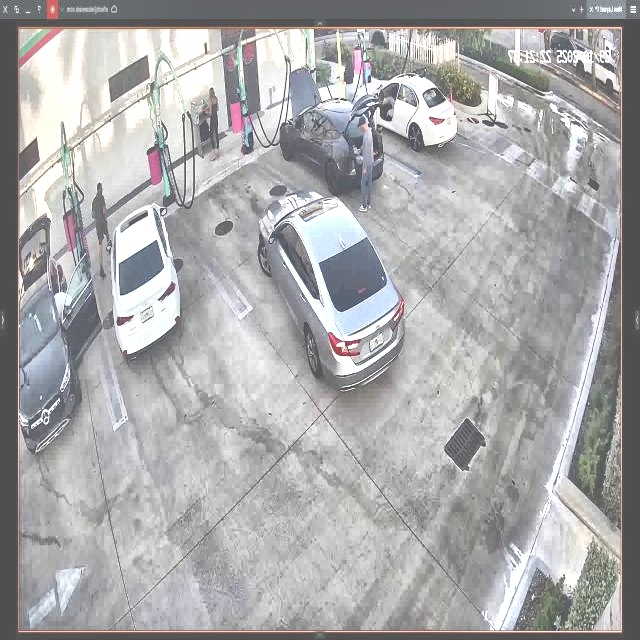Car: (256, 189, 403, 388), (279, 69, 384, 192), (113, 193, 186, 357), (355, 74, 459, 159)
